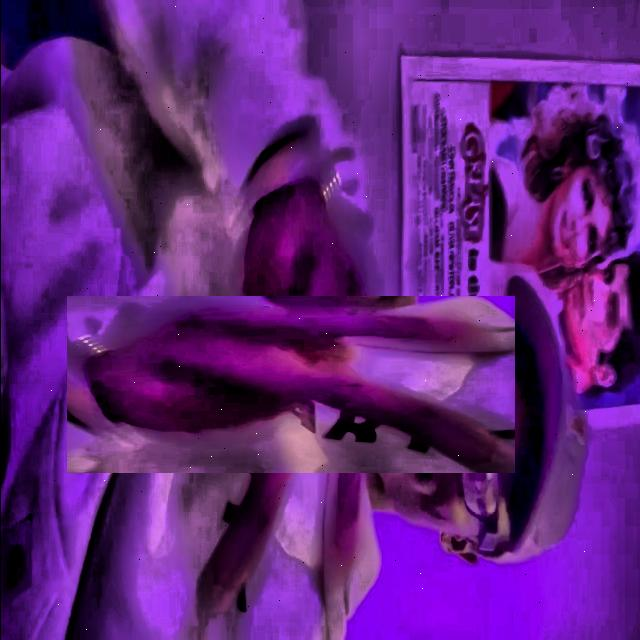not-gloved: (134, 228, 447, 541)
